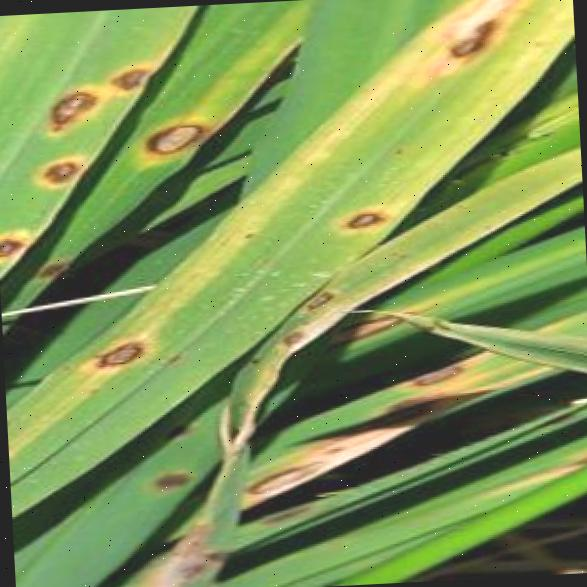Brown_Spot: (385, 0, 540, 77), (113, 100, 217, 183), (27, 70, 111, 145), (17, 136, 95, 204), (234, 448, 335, 500), (318, 186, 404, 245), (78, 322, 159, 381), (91, 44, 164, 104), (398, 349, 474, 400), (128, 457, 204, 498), (0, 211, 40, 282), (288, 274, 344, 316), (265, 315, 316, 356), (160, 345, 188, 368), (231, 225, 260, 246), (240, 352, 266, 370), (52, 358, 74, 376), (84, 380, 106, 398), (388, 137, 406, 157)
